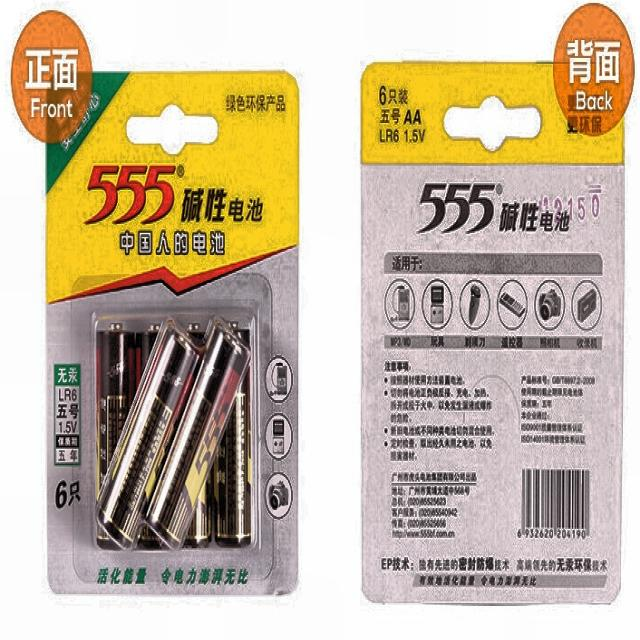Non-Valuable Waste - Batteries: (96, 318, 250, 550)
